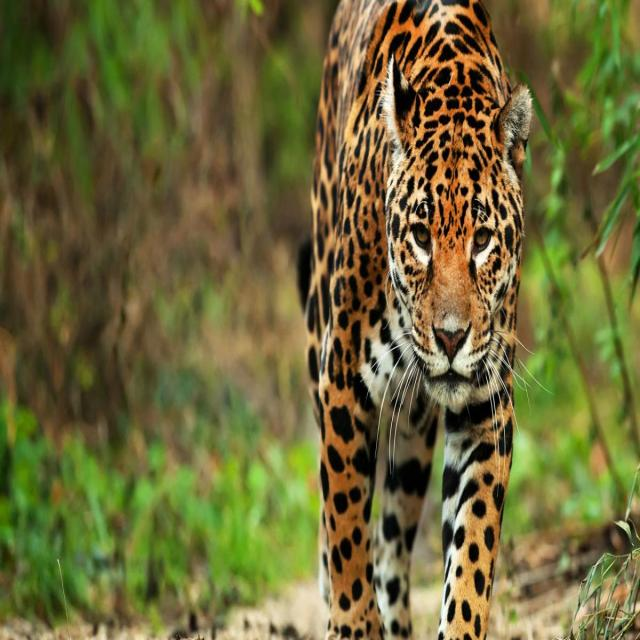Jaguar: (295, 0, 533, 640)
